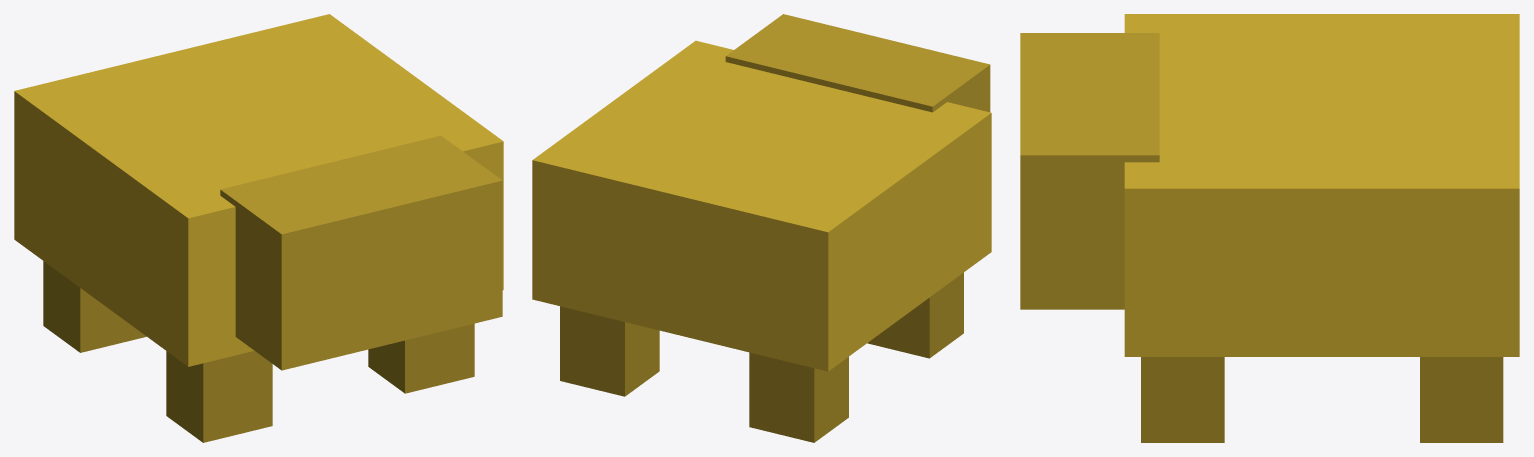
The model's file is wasp.glb.
3 views of the same model, side by side, from view 1: azimuth 30°, elevation 25°; view 2: azimuth 150°, elevation 25°; view 3: azimuth 270°, elevation 25° (orthographic). The views are drawn at different scales.
Visible parts, largest first — view 1: _MeshInstance3D_18, _MeshInstance3D_19, _MeshInstance3D_21, _MeshInstance3D_23, _MeshInstance3D_20; view 2: _MeshInstance3D_18, _MeshInstance3D_19, _MeshInstance3D_20, _MeshInstance3D_22, _MeshInstance3D_21; view 3: _MeshInstance3D_18, _MeshInstance3D_19, _MeshInstance3D_22, _MeshInstance3D_23.
Part boxes in pixels (left/top/right/bottom): _MeshInstance3D_18: left=14, top=14, right=503, bottom=366; _MeshInstance3D_19: left=220, top=135, right=502, bottom=370; _MeshInstance3D_21: left=166, top=351, right=272, bottom=442; _MeshInstance3D_23: left=368, top=323, right=474, bottom=393; _MeshInstance3D_20: left=43, top=261, right=146, bottom=352; _MeshInstance3D_18: left=532, top=40, right=991, bottom=371; _MeshInstance3D_19: left=725, top=14, right=990, bottom=112; _MeshInstance3D_20: left=749, top=352, right=848, bottom=442; _MeshInstance3D_22: left=560, top=306, right=659, bottom=396; _MeshInstance3D_21: left=867, top=272, right=963, bottom=358; _MeshInstance3D_18: left=1124, top=14, right=1519, bottom=356; _MeshInstance3D_19: left=1020, top=33, right=1159, bottom=309; _MeshInstance3D_22: left=1420, top=357, right=1503, bottom=442; _MeshInstance3D_23: left=1141, top=357, right=1224, bottom=442.
Size of the model in its own units: 0.8 by 0.585 by 0.9675.
